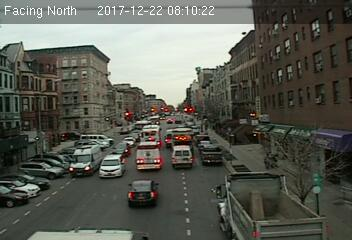car: (127, 179, 160, 209), (97, 153, 124, 178), (201, 146, 222, 164), (114, 142, 132, 155)
truck: (217, 171, 325, 240), (69, 146, 102, 177), (135, 141, 163, 169), (171, 144, 192, 167)
